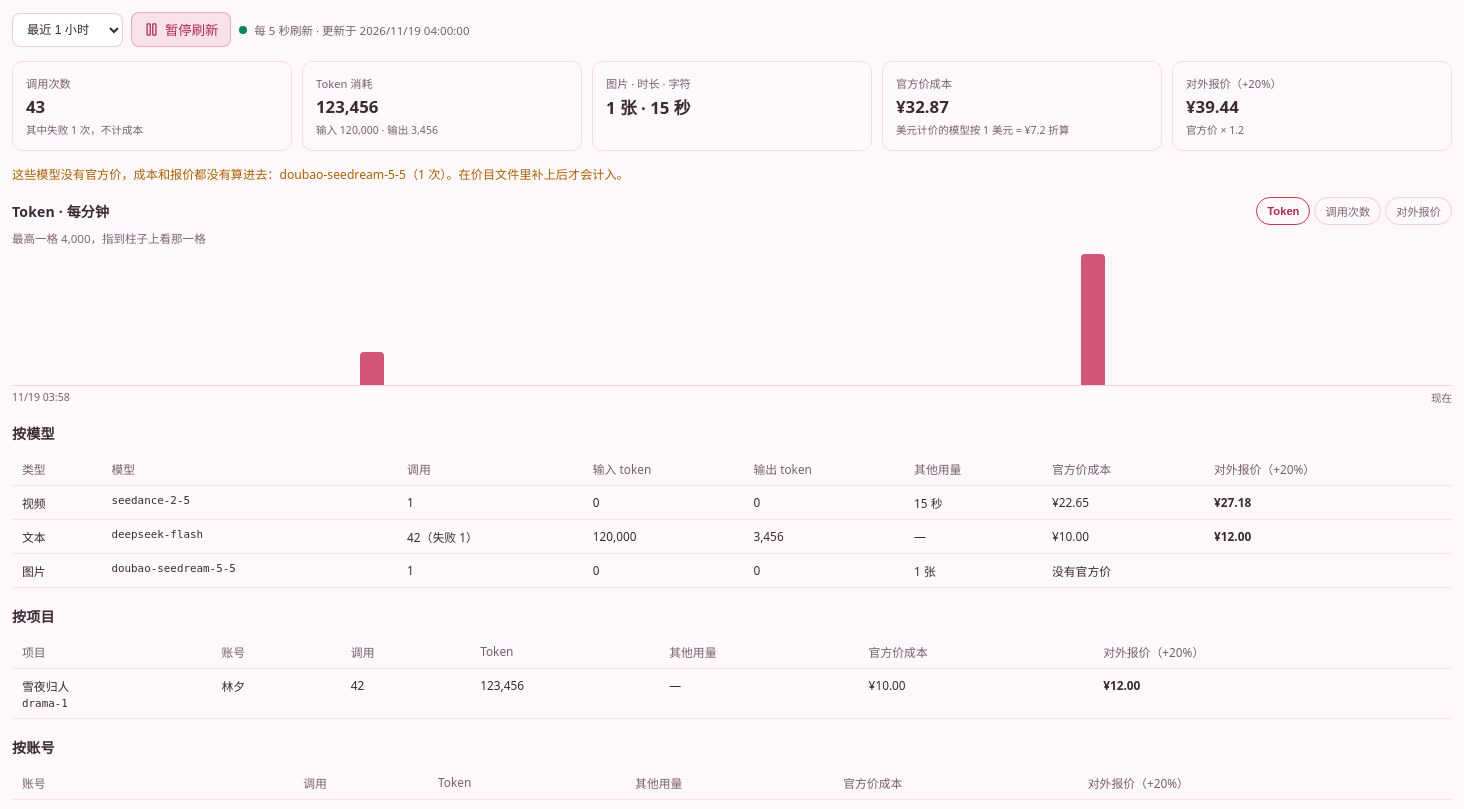
live usage and the outward quote › asks again every five seconds, and stops while paused
Later steps or results of the test are not shown.
Expected: the text "43" is shown, [26, 95, 45, 118]
Click the button "暂停刷新" at coordinates (181, 30), box [131, 12, 231, 47]
Wait 15000 ms
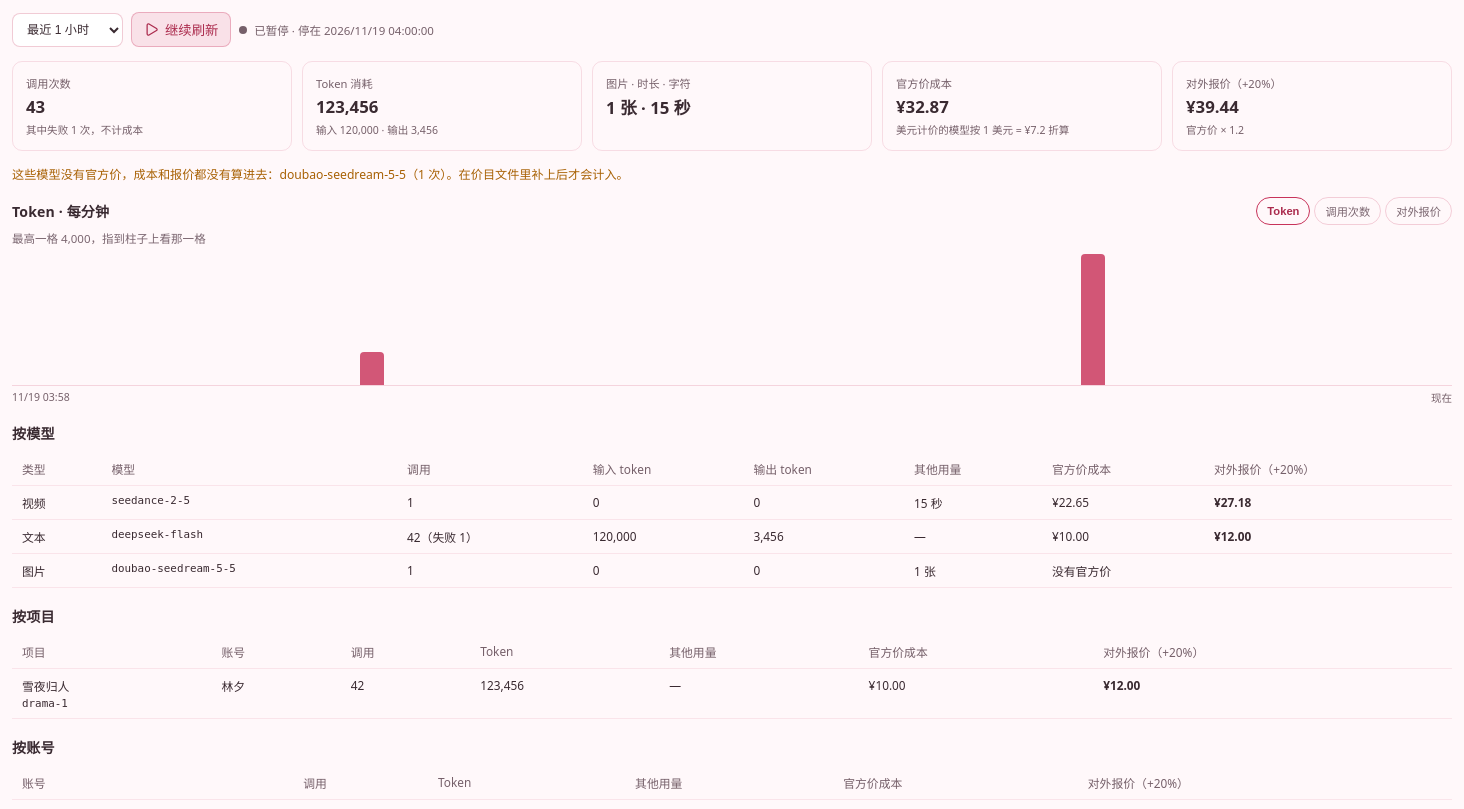
Expected: the text "已暂停 · 停在 2026/11/19 04:00:00" is shown, [239, 22, 434, 38]
